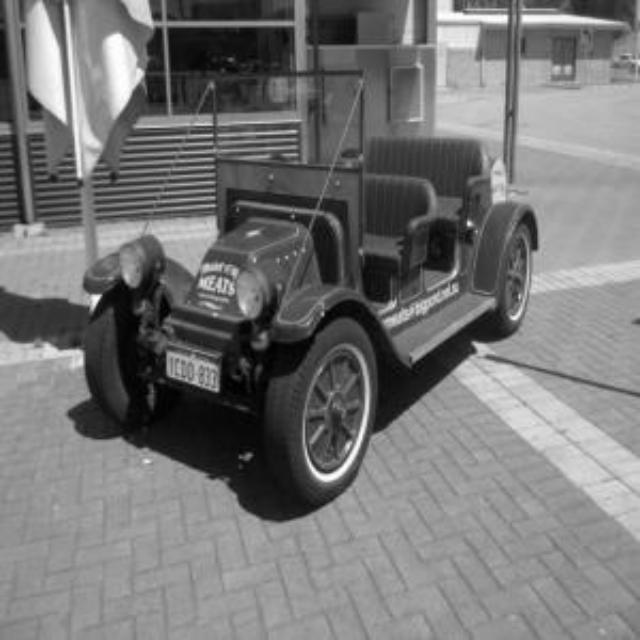License Plate: (166, 343, 221, 393)
